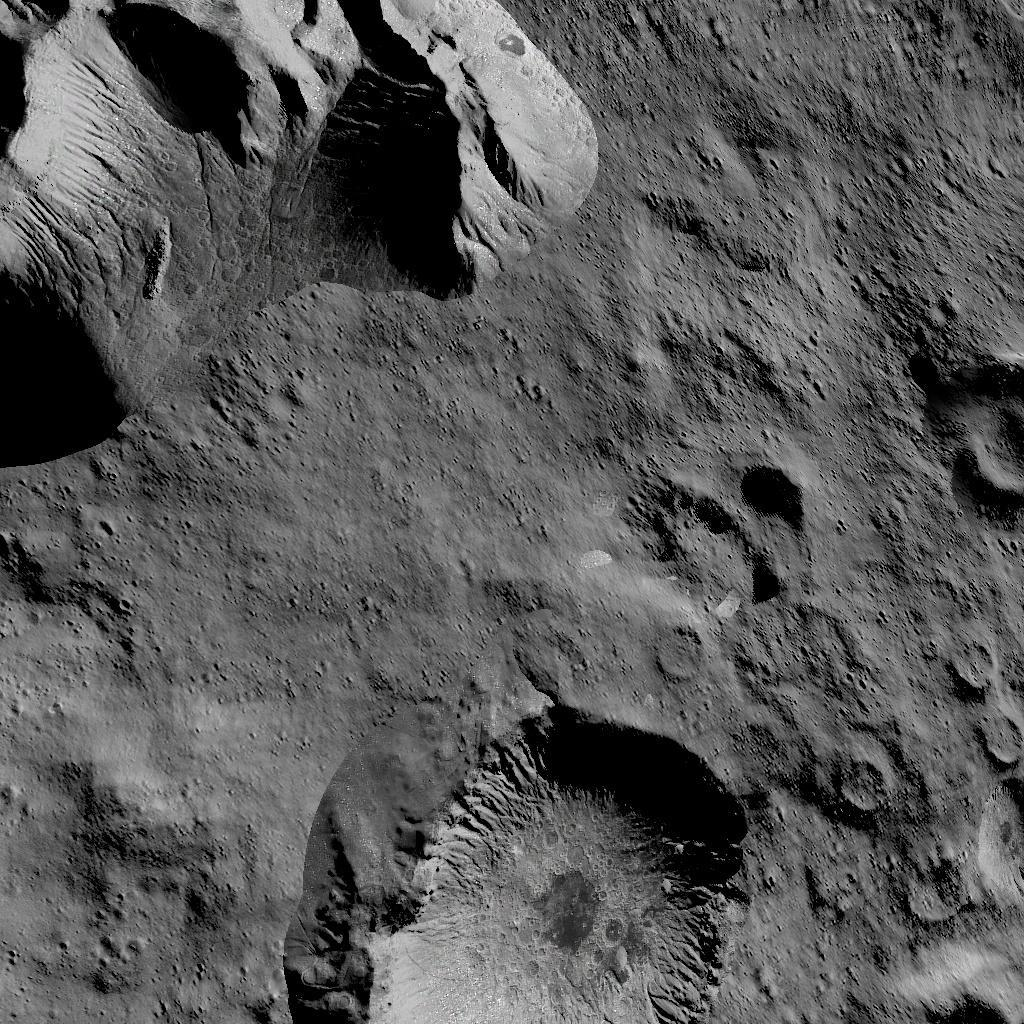Boulders: (0, 0, 592, 444)
Crater: (278, 698, 756, 1024), (916, 632, 1024, 880), (640, 460, 792, 604), (812, 928, 994, 1024), (925, 362, 1024, 521), (808, 748, 870, 810), (650, 617, 710, 681)
Plan surface: (3, 454, 589, 688), (618, 0, 884, 438), (3, 696, 226, 1020)
